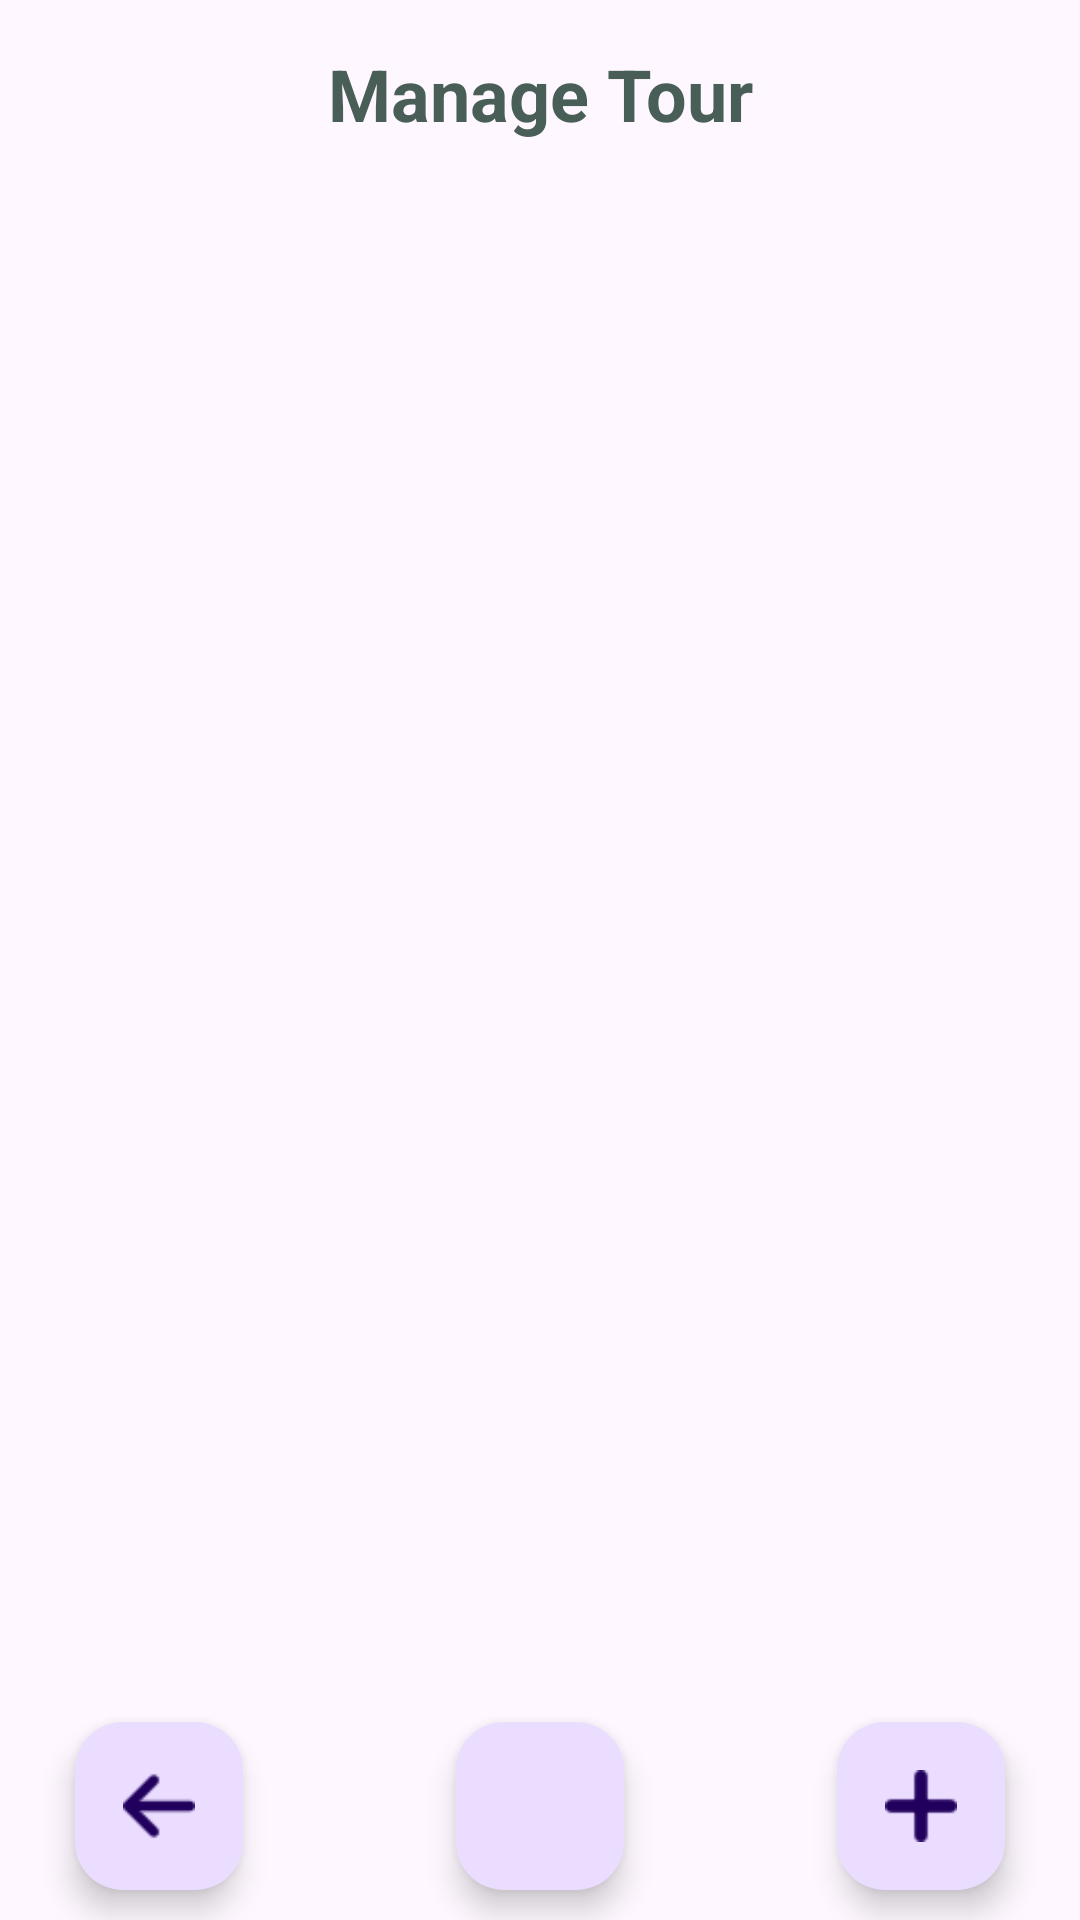

Icons on this 1080×1920 Android screen, each with the point to tap as (x=x, y=y):
add: (x=921, y=1806)
back arrow: (x=159, y=1806)
